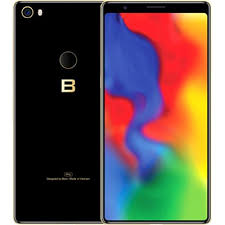bphone: (10, 1, 214, 225), (98, 1, 214, 225), (11, 1, 101, 225)
